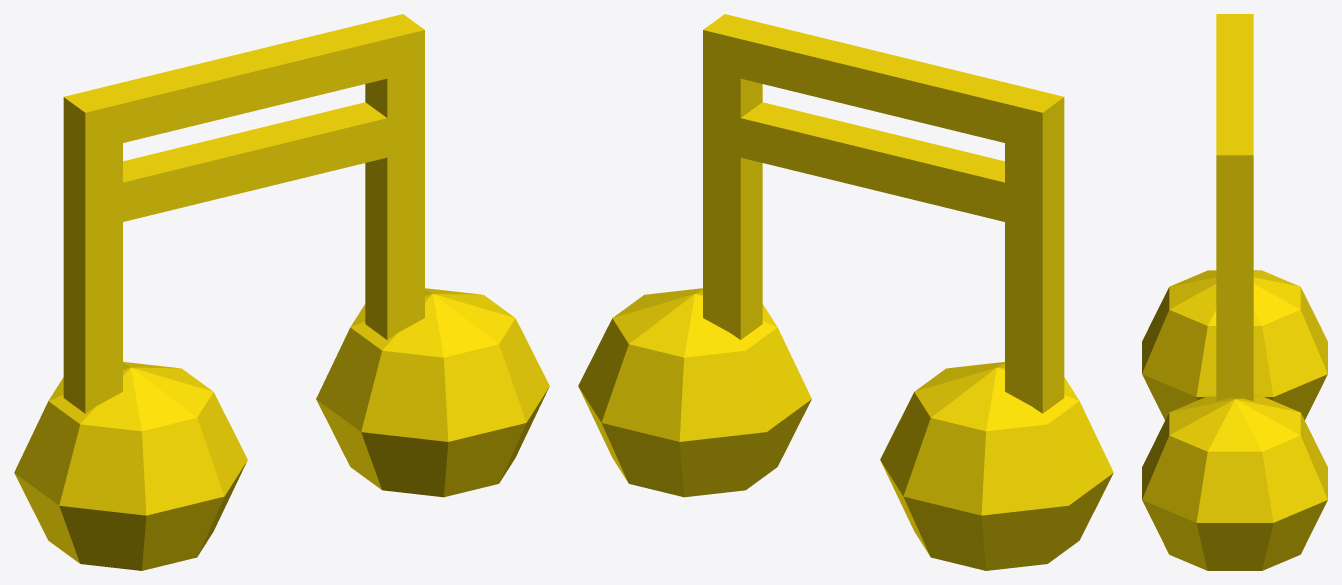
Rendered from Note Collectable.fbx.
3 views of the same model, side by side, from view 1: azimuth 30°, elevation 25°; view 2: azimuth 150°, elevation 25°; view 3: azimuth 270°, elevation 25° (orthographic). The views are drawn at different scales.
Visible parts, largest first — view 1: group, sphere_1, sphere, group2; view 2: group, sphere_1, sphere, group2; view 3: sphere, sphere_1, group, group2.
Boxes of the visible parts, x1=… form: group: x1=83, y1=14, x2=424, y2=339; sphere_1: x1=14, y1=362, x2=247, y2=570; sphere: x1=316, y1=288, x2=549, y2=497; group2: x1=63, y1=87, x2=122, y2=413; group: x1=703, y1=14, x2=1044, y2=339; sphere_1: x1=880, y1=362, x2=1113, y2=570; sphere: x1=578, y1=288, x2=811, y2=497; group2: x1=1005, y1=88, x2=1064, y2=413; sphere: x1=1142, y1=396, x2=1327, y2=570; sphere_1: x1=1142, y1=270, x2=1327, y2=420; group: x1=1216, y1=22, x2=1253, y2=401; group2: x1=1216, y1=14, x2=1253, y2=28.
Size of the model in its own units: 81.25 by 75 by 31.25.
1 material, 1 textured.
